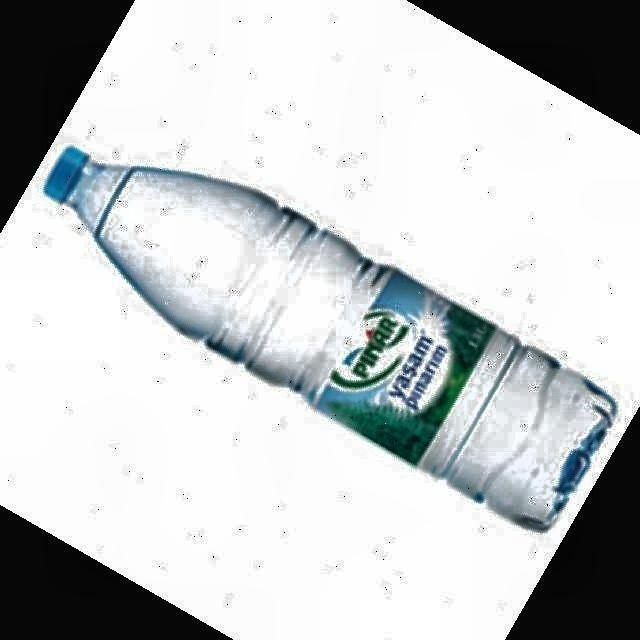plastic: (45, 148, 615, 529)
